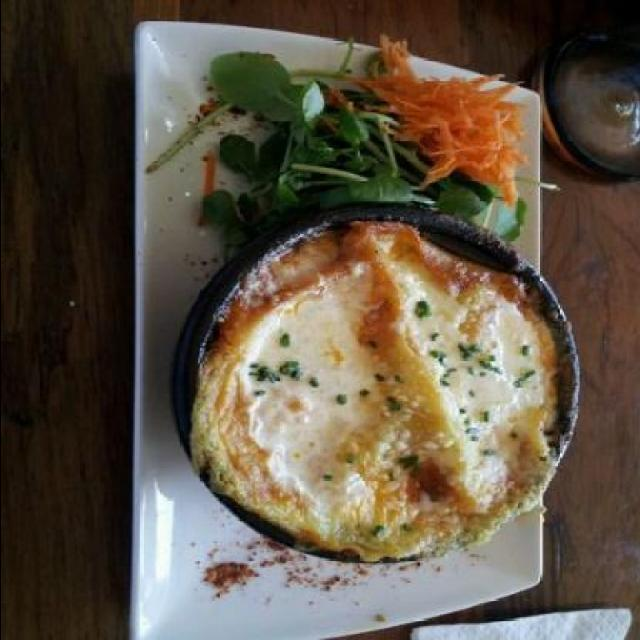Lasagna: (205, 266, 523, 534)
